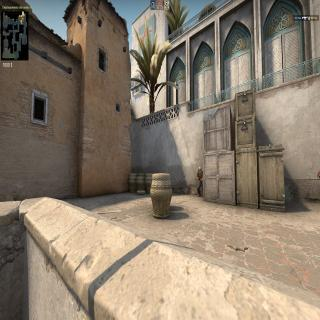T-Head: (198, 165, 202, 175)
